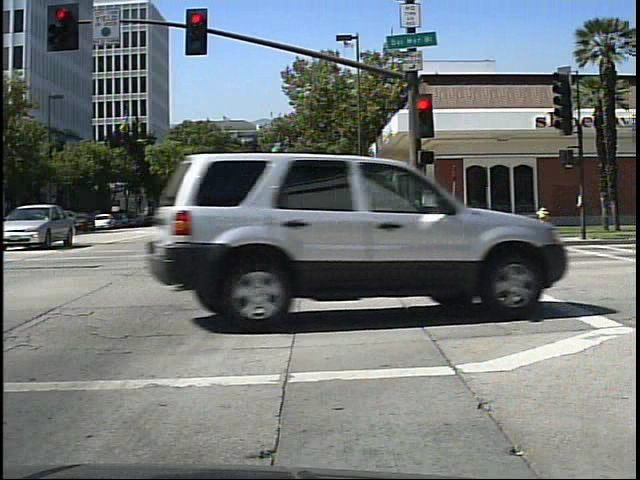person: (269, 205, 281, 223)
